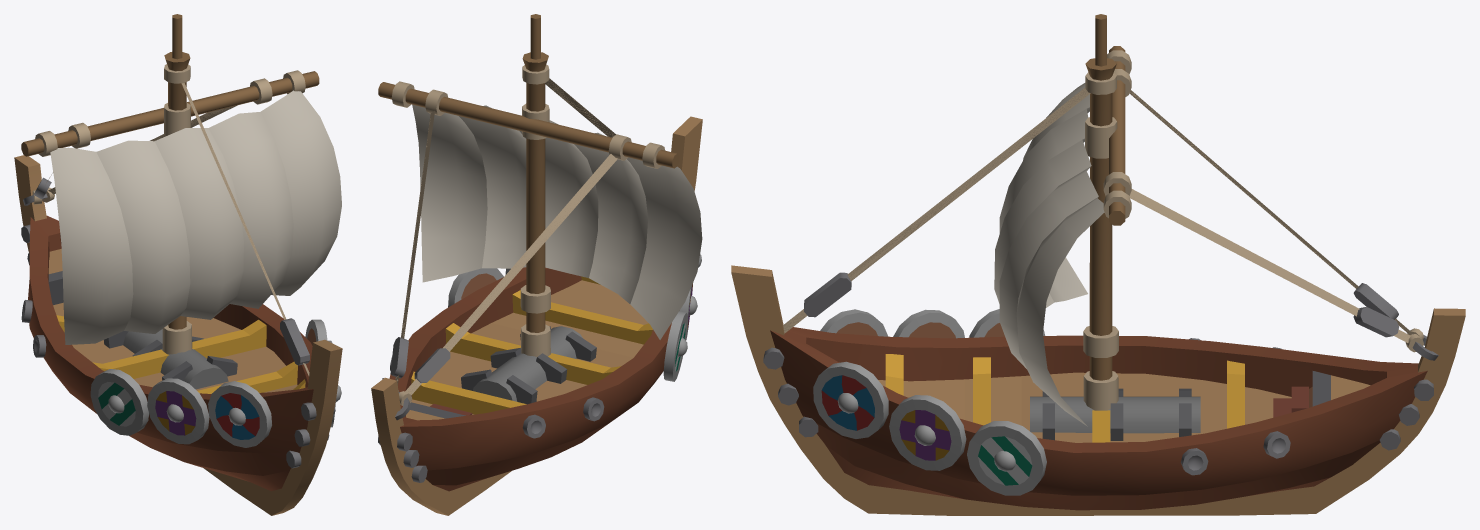
File: Ferring.fbx
3 renders of one model, left to right at view 1: azimuth 30°, elevation 25°; view 2: azimuth 150°, elevation 25°; view 3: azimuth 270°, elevation 25°, orthographic. The views are drawn at different scales.
Visible parts, largest first — view 1: Sails_White, Ferring, Upgrade_02, Upgrade_01; view 2: Ferring, Sails_White, Upgrade_01, Upgrade_02; view 3: Ferring, Sails_White, Upgrade_02, Upgrade_01.
Boxes of the visible parts, box(x1,y1,x2,y2) form: Sails_White: box(50, 90, 341, 344); Ferring: box(14, 14, 342, 515); Upgrade_02: box(90, 319, 341, 447); Upgrade_01: box(56, 315, 305, 393); Ferring: box(371, 14, 702, 515); Sails_White: box(412, 104, 702, 339); Upgrade_01: box(411, 276, 652, 414); Upgrade_02: box(448, 254, 701, 381); Ferring: box(731, 14, 1465, 515); Sails_White: box(994, 83, 1104, 426); Upgrade_02: box(813, 309, 1046, 495); Upgrade_01: box(885, 354, 1244, 442).
Size of the model in its own units: 430 by 602 by 808.
